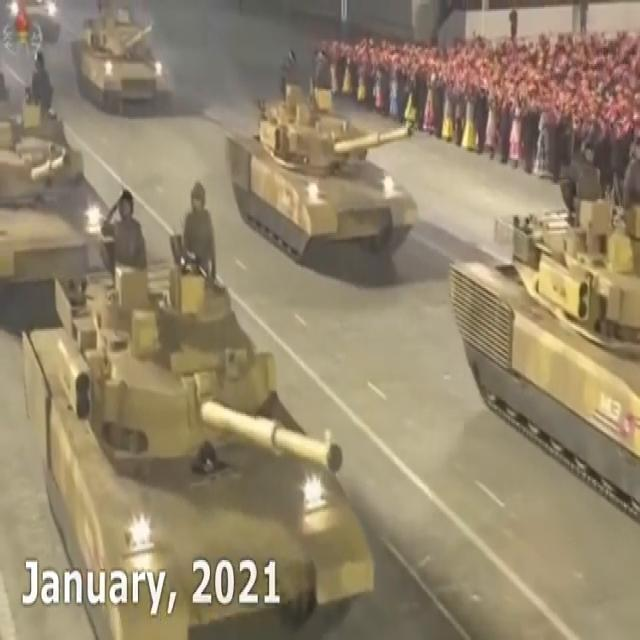north tank: (20, 251, 396, 640), (438, 132, 640, 498), (213, 44, 429, 287), (1, 66, 122, 304), (78, 0, 180, 135)
